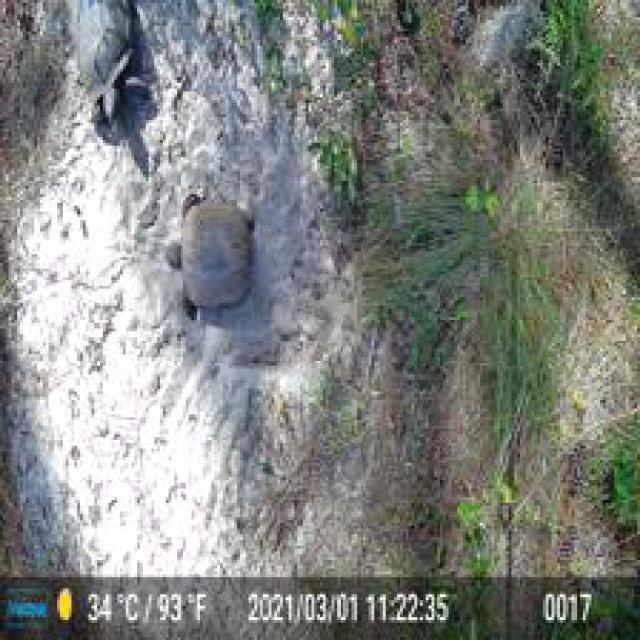tortoise: (168, 188, 262, 322), (63, 0, 144, 129)
